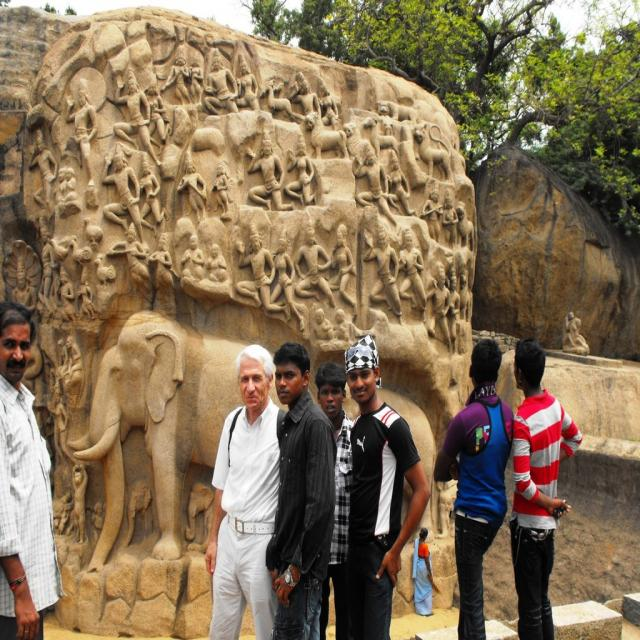elephant: (64, 304, 288, 570)
